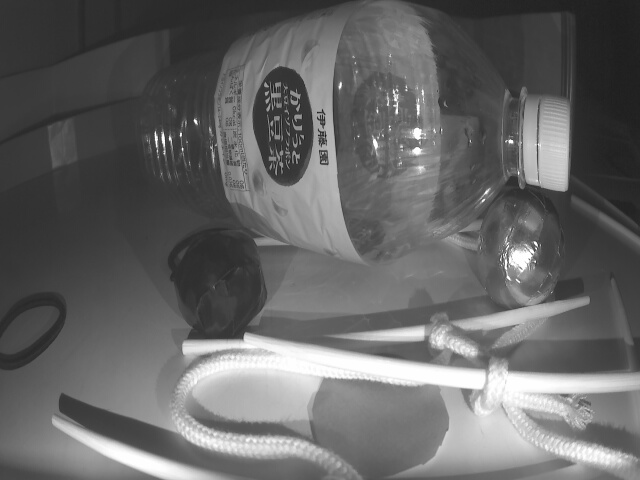Dead: (170, 227, 264, 343)
Live: (470, 183, 558, 307)
Point: (4, 98, 145, 194)
